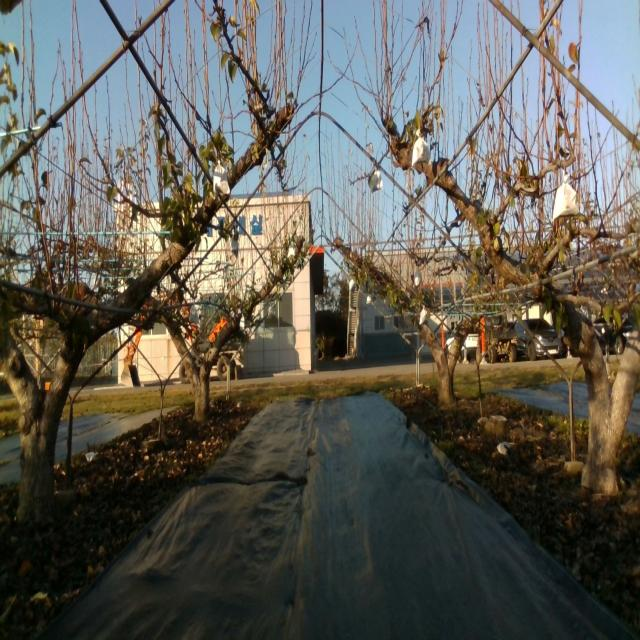pearbags: (552, 174, 580, 218), (410, 126, 432, 168), (213, 161, 231, 203), (371, 170, 382, 192), (188, 305, 200, 324)
